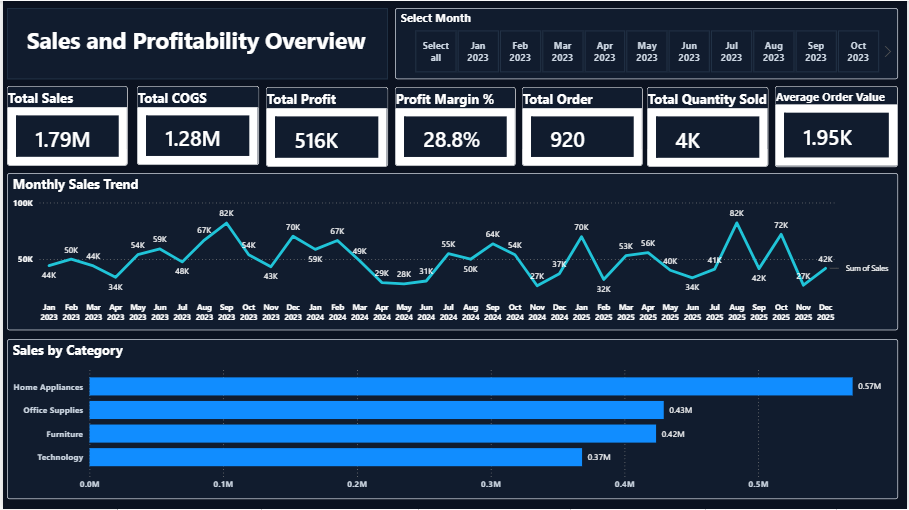

This screenshot's page, from the dashboard's own definition file:
{"tool":"powerbi","page":{"name":"Exclusive Overview","canvas":[1280,720],"ordinal":0},"visuals":[{"type":"cardVisual","title":"Total Sales","fields":{"Data":["ALL_DAX.Total Sales"]},"box":[6,120.5,171.5,113.4],"z":0},{"type":"cardVisual","title":"Total COGS","fields":{"Data":["ALL_DAX.Total Cogs"]},"box":[190.1,121,172.8,112.3],"z":1000},{"type":"cardVisual","title":"Total Profit","fields":{"Data":["ALL_DAX.Total Profit"]},"box":[372.8,121.9,172.9,113.4],"z":2000},{"type":"cardVisual","title":"Total Order","fields":{"Data":["ALL_DAX.Total Unique Order"]},"box":[735.8,122.4,171.4,112.3],"z":3000},{"type":"cardVisual","title":"Average Order Value","fields":{"Data":["ALL_DAX.AOV"]},"box":[1094.2,120.5,174.3,114.8],"z":4000},{"type":"cardVisual","title":"Profit Margin %","fields":{"Data":["ALL_DAX.Profit Margin"]},"box":[555.8,122.4,171.4,112.3],"z":5000},{"type":"cardVisual","title":"Total Quantity Sold","fields":{"Data":["ALL_DAX.Total Quantity Sold"]},"box":[913,122.4,172,113],"z":6000},{"type":"slicer","title":"Select Month","fields":{"Values":["Dim_Date.Month Year label"]},"box":[555.8,10.1,712.8,100.8],"z":7000},{"type":"lineChart","title":"Monthly Sales Trend","fields":{"Category":["Dim_Date.Month Year label"],"Y":["Sum(Fact_Sales.Sales)"]},"box":[5.7,243.8,1262.8,222.5],"z":8000},{"type":"clusteredBarChart","title":"Sales by Category","fields":{"Category":["Dim_Product.Category"],"Y":["ALL_DAX.Total Sales"]},"box":[5.7,479.1,1262.8,226.8],"z":9000},{"type":"textbox","box":[5.8,10.1,540,100.8],"z":10000}]}

Visuals, with their boxes in screenshot pixels (x1, y1, x2, y2), scaled from the page's 1280x720 canvas onto the 909x510 screenshot:
"Total Sales" cardVisual: locate(4, 85, 126, 166)
"Total COGS" cardVisual: locate(135, 86, 258, 165)
"Total Profit" cardVisual: locate(265, 86, 388, 167)
"Total Order" cardVisual: locate(523, 87, 644, 166)
"Average Order Value" cardVisual: locate(777, 85, 901, 167)
"Profit Margin %" cardVisual: locate(395, 87, 516, 166)
"Total Quantity Sold" cardVisual: locate(648, 87, 771, 167)
"Select Month" slicer: locate(395, 7, 901, 79)
"Monthly Sales Trend" lineChart: locate(4, 173, 901, 330)
"Sales by Category" clusteredBarChart: locate(4, 339, 901, 500)
textbox: locate(4, 7, 388, 79)
